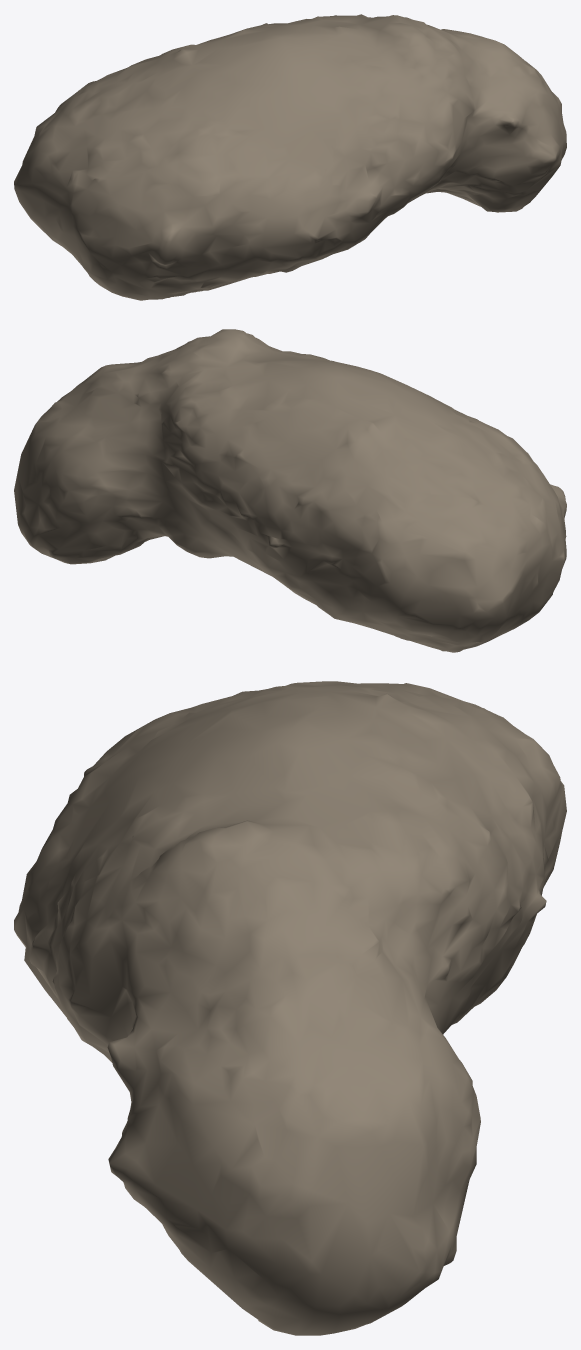
Rendered from itokawa-low.glb.
3 renders of one model, top to bottom at view 1: azimuth 30°, elevation 25°; view 2: azimuth 150°, elevation 25°; view 3: azimuth 270°, elevation 25°, orthographic. The views are drawn at different scales.
Visible parts, largest first — view 1: itokawa; view 2: itokawa; view 3: itokawa.
Boxes of the visible parts, left/top/right/bottom form: itokawa: left=14, top=14, right=566, bottom=300; itokawa: left=14, top=329, right=566, bottom=652; itokawa: left=14, top=681, right=566, bottom=1335.
Bounding box in the file's own units: 0.5614 × 0.2433 × 0.3051.
